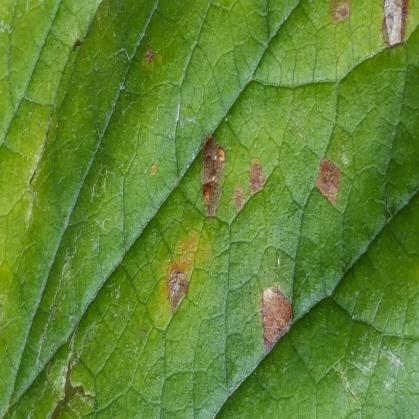Angular Leafspot: (135, 0, 418, 362)
